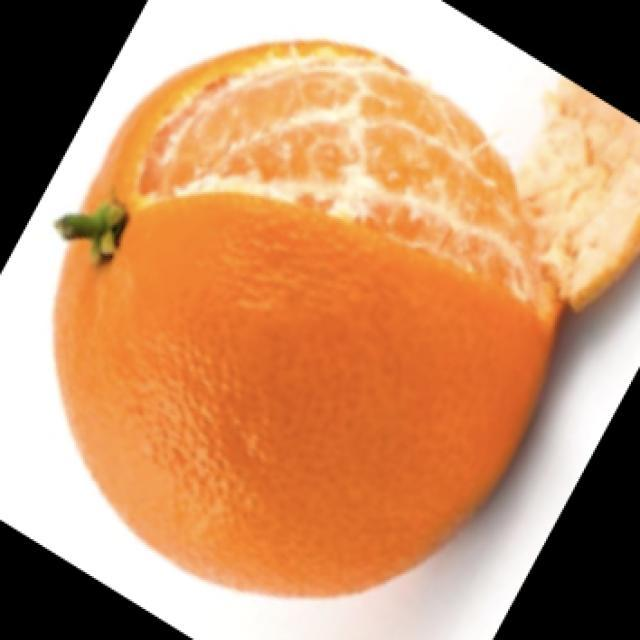matang: (55, 40, 560, 595), (140, 60, 552, 299)
